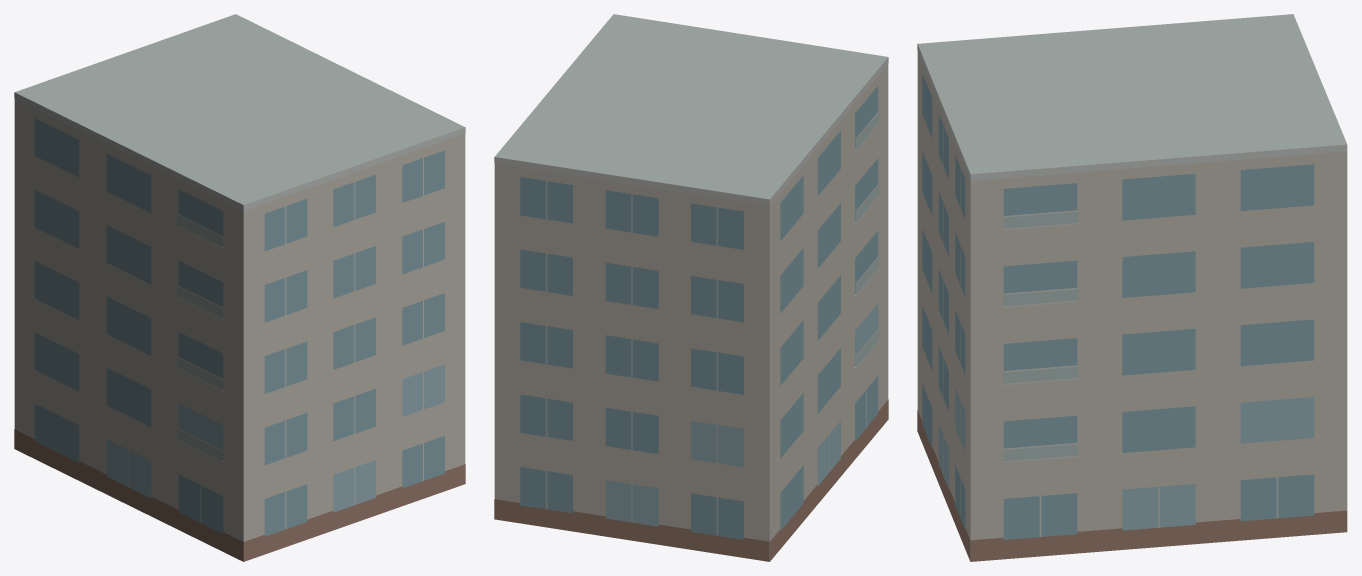
Rendered from survey-upis-32950275.glb.
The picture shows the model from 3 angles, left to right: view 1: azimuth 30°, elevation 25°; view 2: azimuth 150°, elevation 25°; view 3: azimuth 270°, elevation 25°; orthographic projection. The views are drawn at different scales.
Visible parts, largest first — view 1: survey-upis-32950275.tmp; view 2: survey-upis-32950275.tmp; view 3: survey-upis-32950275.tmp.
Part boxes in pixels (left/top/right/bottom): survey-upis-32950275.tmp: left=14, top=14, right=465, bottom=561; survey-upis-32950275.tmp: left=494, top=14, right=888, bottom=561; survey-upis-32950275.tmp: left=917, top=14, right=1347, bottom=561.
Size of the model in its own units: 12.25 by 13.8 by 13.88.
